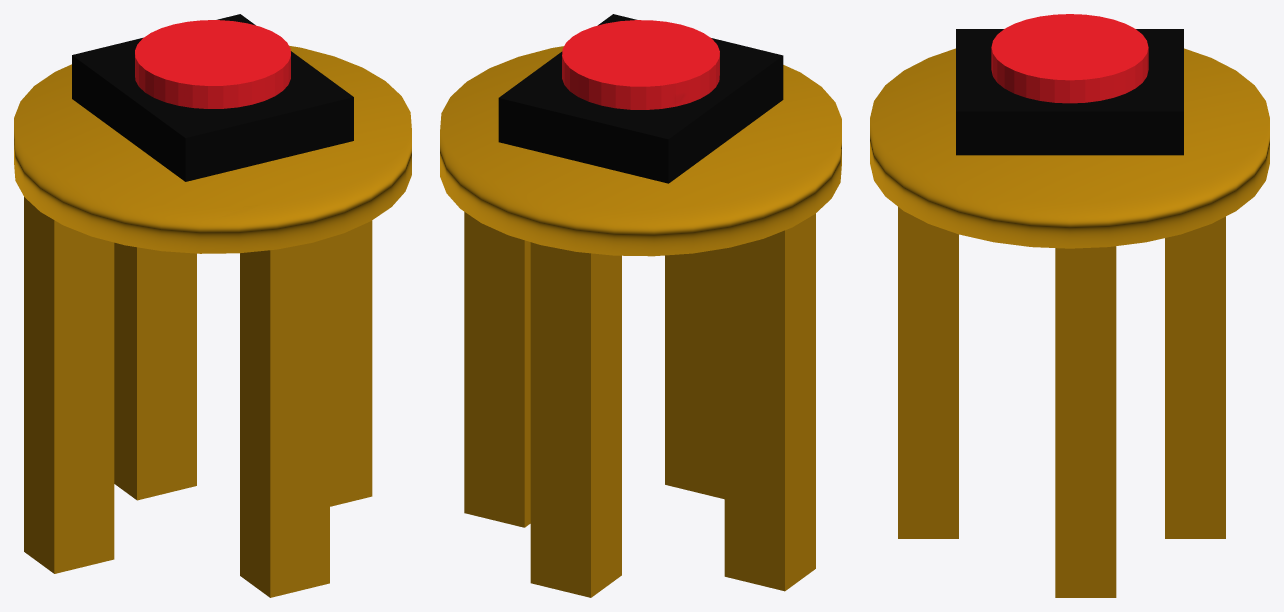
The model's file is button 1.fbx.
The picture shows the model from 3 angles, left to right: view 1: azimuth 30°, elevation 25°; view 2: azimuth 150°, elevation 25°; view 3: azimuth 270°, elevation 25°; orthographic projection.
Visible parts, largest first — view 1: Cylinder.001; view 2: Cylinder.001; view 3: Cylinder.001.
Part boxes in pixels (x1,y1,x2,y2): Cylinder.001: (14,14,411,597); Cylinder.001: (440,14,841,597); Cylinder.001: (870,14,1269,597).
Bounding box in the file's own units: 200 × 263 × 200.
Materials: 1 (1 with a texture image).
